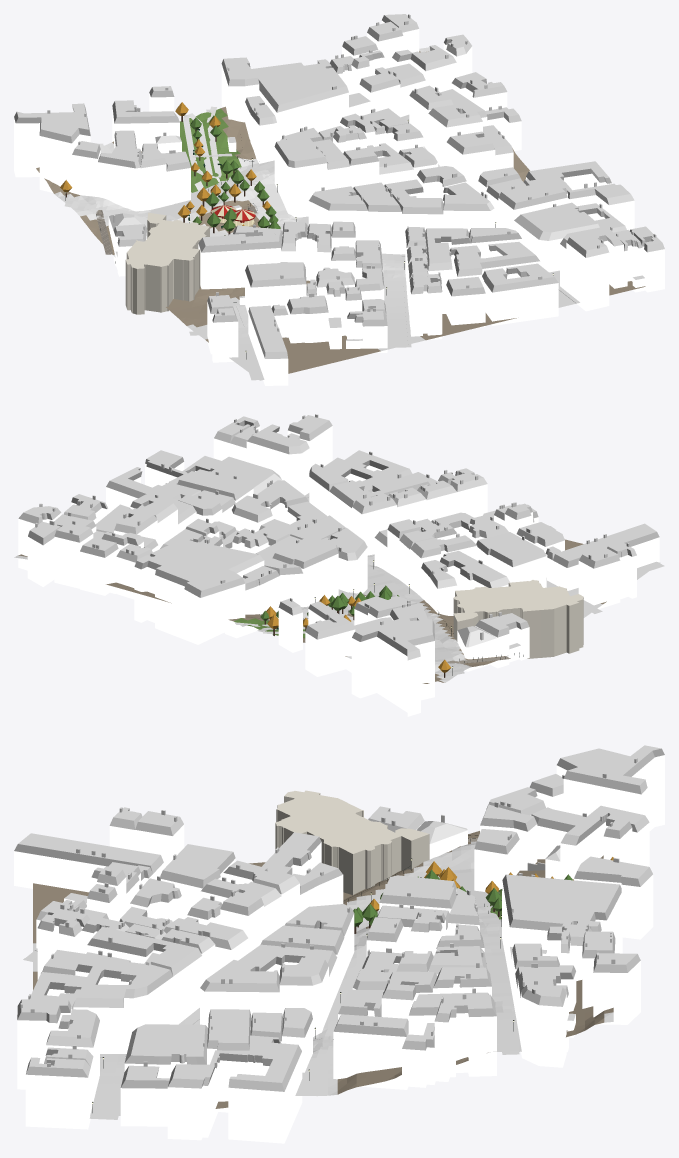
Rendered from zone_D3.glb.
3 renders of one model, top to bottom at view 1: azimuth 30°, elevation 25°; view 2: azimuth 150°, elevation 25°; view 3: azimuth 270°, elevation 25°, orthographic. The views are drawn at different scales.
Parts seen in each view (by area): view 1: zone_D3_batiments, zone_D3_terrain, zone_D3_sol_NOCOL, zone_D3_decor_NOCOL; view 2: zone_D3_batiments, zone_D3_terrain, zone_D3_sol_NOCOL, zone_D3_decor_NOCOL; view 3: zone_D3_batiments, zone_D3_sol_NOCOL, zone_D3_terrain, zone_D3_decor_NOCOL.
Part boxes in pixels (x1,y1,x2,y2): zone_D3_batiments: (14, 14, 664, 385); zone_D3_terrain: (36, 47, 645, 380); zone_D3_sol_NOCOL: (64, 106, 578, 380); zone_D3_decor_NOCOL: (60, 102, 553, 359); zone_D3_batiments: (18, 414, 659, 716); zone_D3_terrain: (14, 493, 660, 683); zone_D3_sol_NOCOL: (234, 494, 664, 675); zone_D3_decor_NOCOL: (260, 560, 523, 677); zone_D3_batiments: (14, 745, 664, 1143); zone_D3_sol_NOCOL: (23, 838, 519, 1119); zone_D3_terrain: (33, 831, 613, 1115); zone_D3_decor_NOCOL: (92, 835, 613, 1112).
Size of the model in its own units: 217 by 52.09 by 205.
